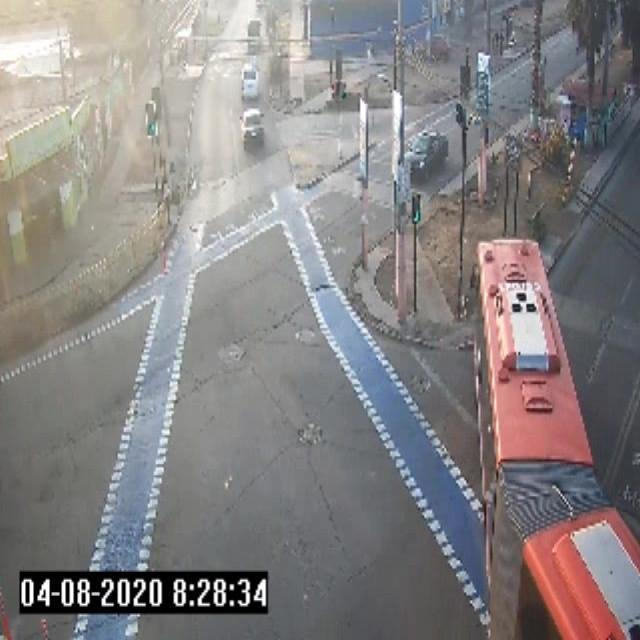AB: (469, 233, 640, 635)
